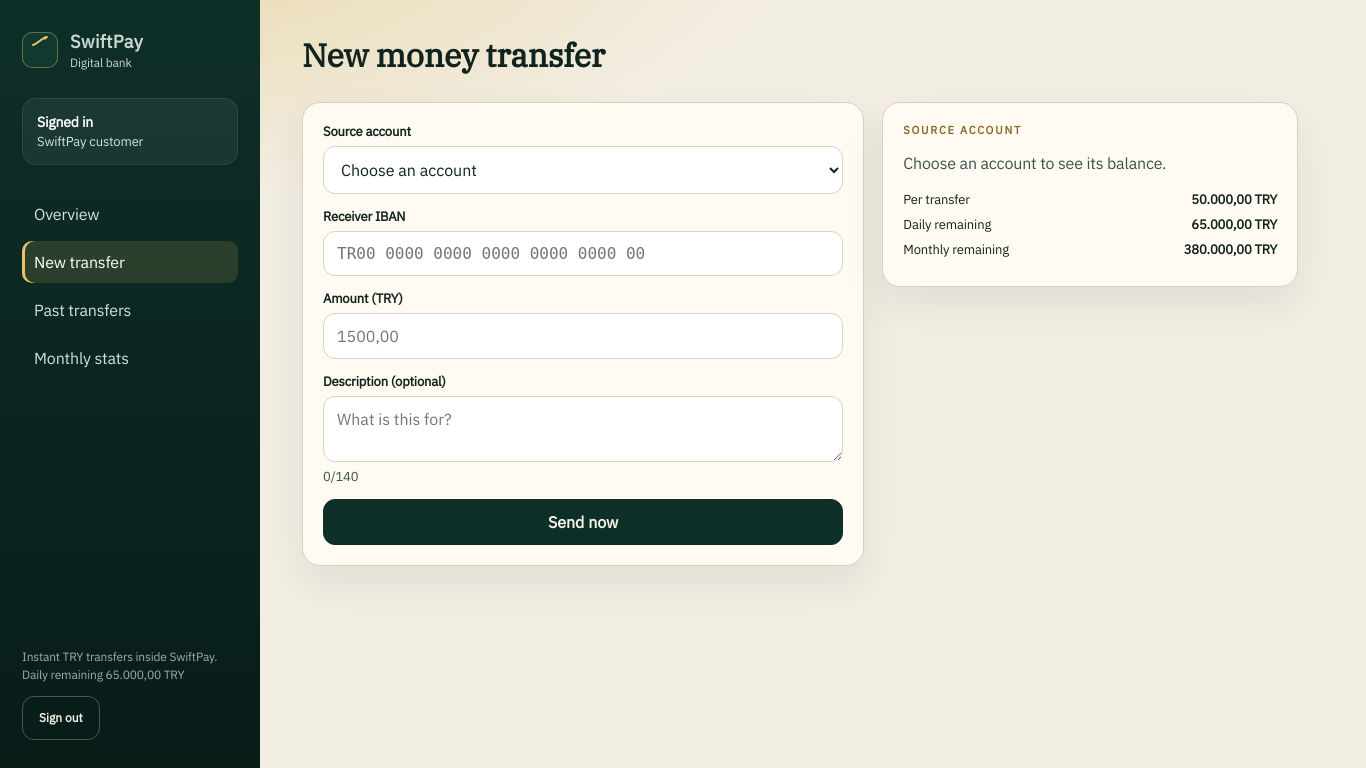
Test case: New transfer form › shows the replay notice when Idempotent-Replayed is true
Select "TR62 **** **** **** **** 1001 — 250.000,00 TRY" in the dropdown labelled "Source account" at (583, 170), box [323, 146, 843, 194]
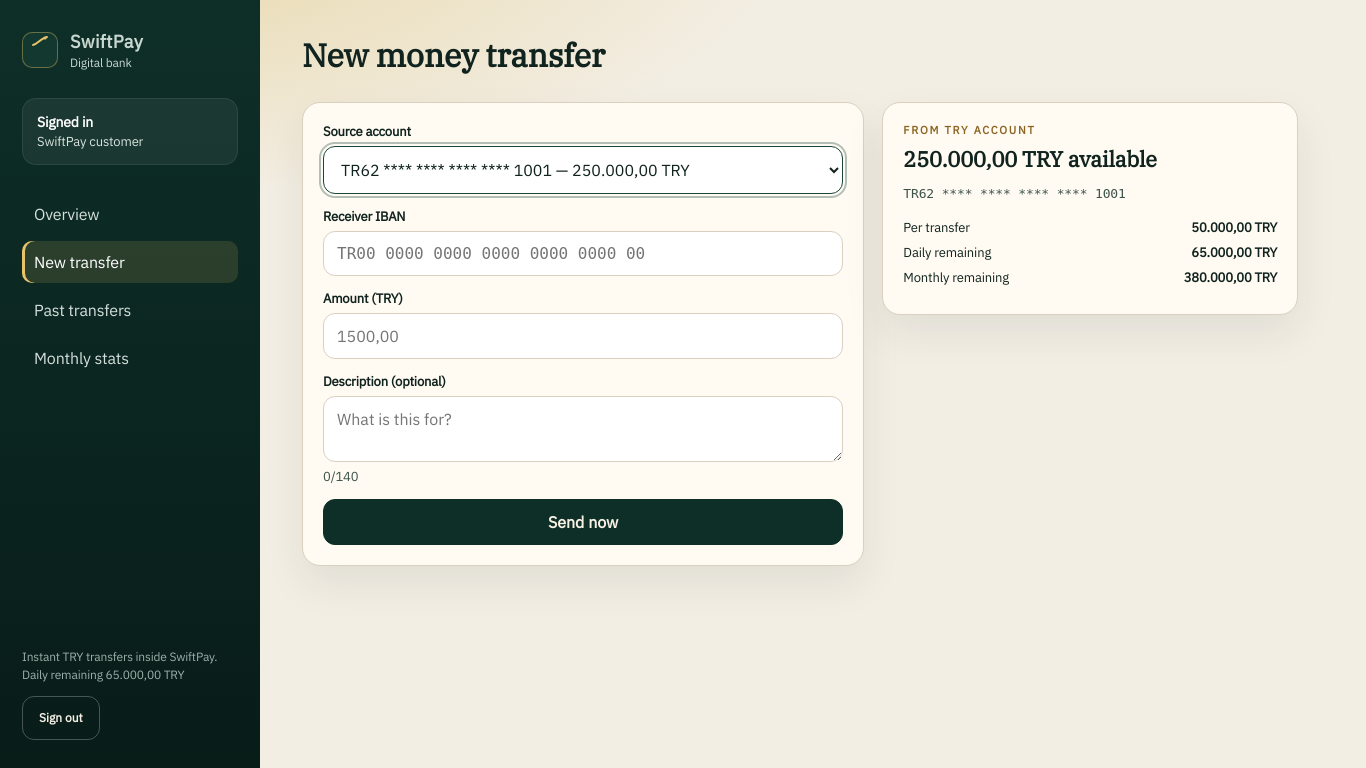
Type "TR690006200000000000002001" into the field labelled "Receiver IBAN" at (583, 254), box [323, 231, 843, 276]
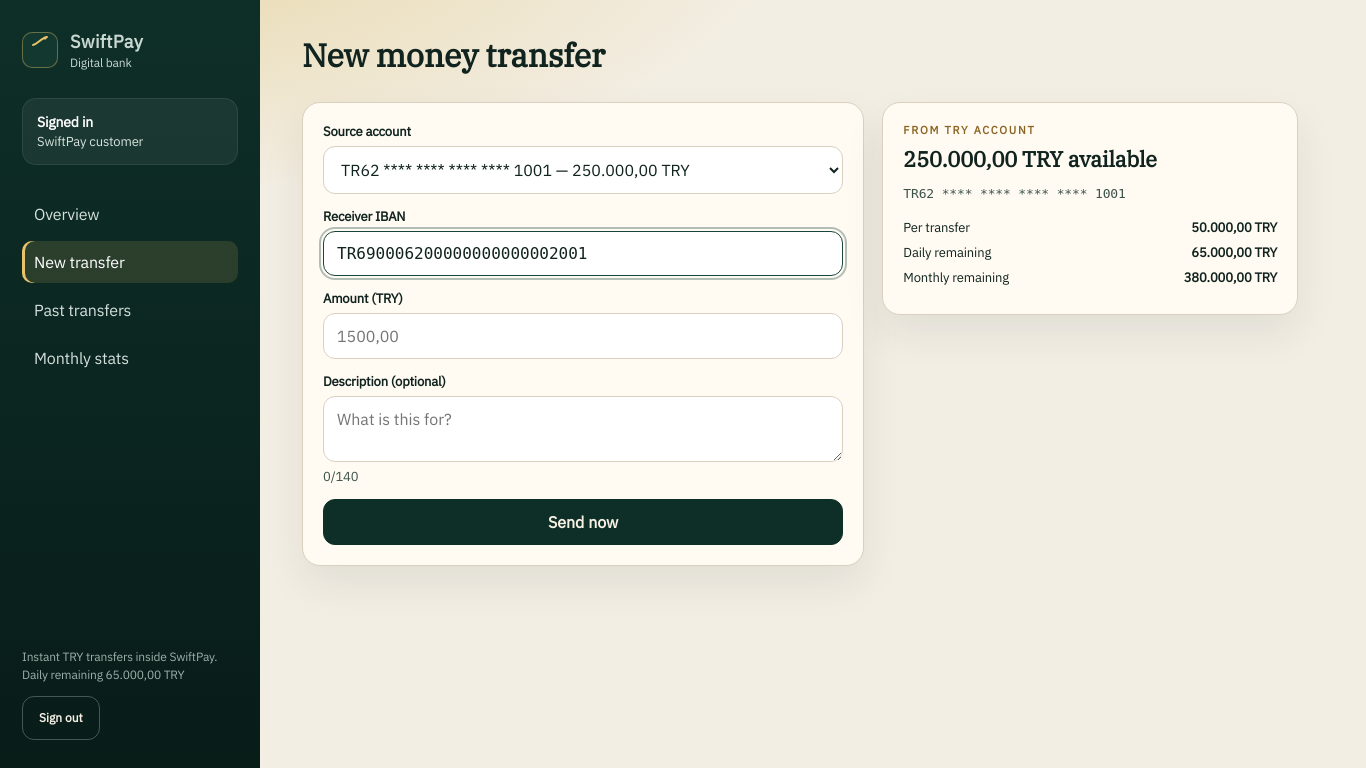
Type "1500" into the field labelled "Amount (TRY)" at (583, 336), box [323, 313, 843, 359]
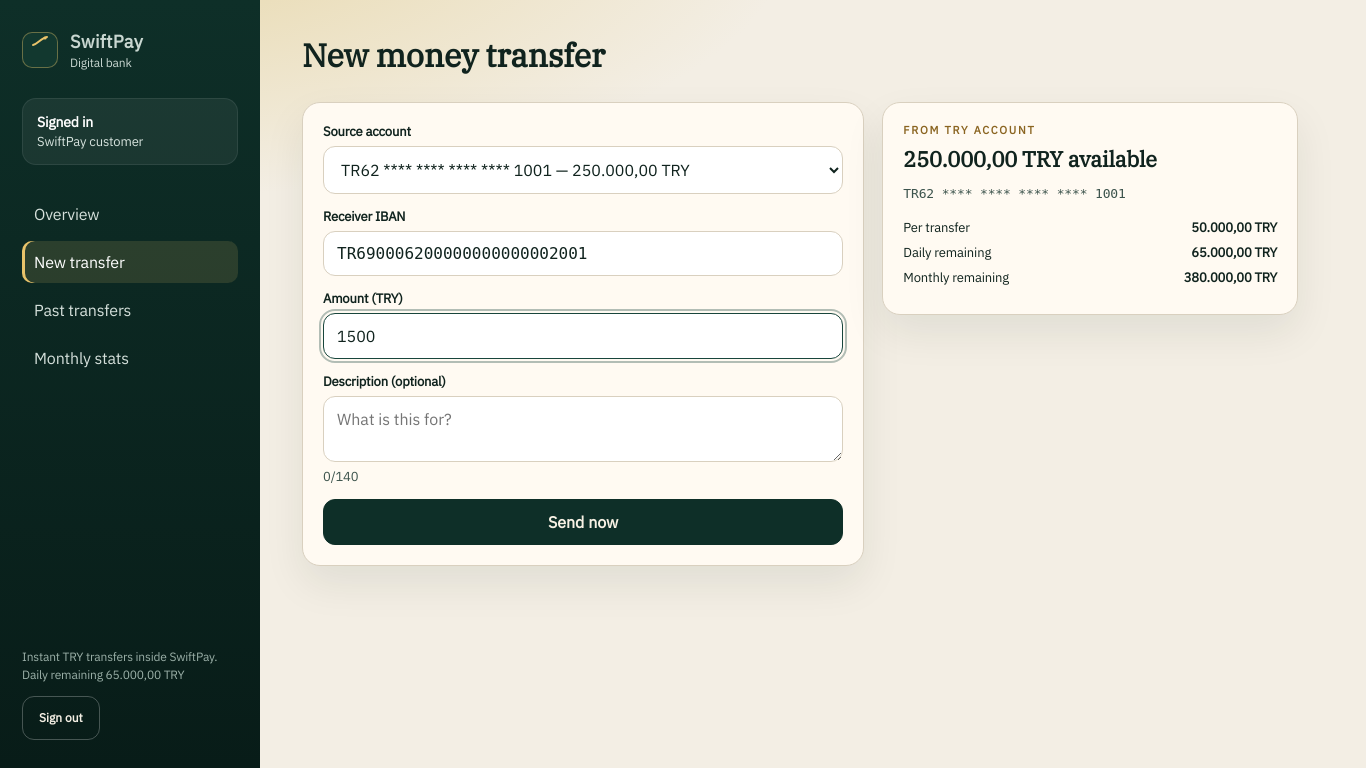
Type "Kira" into the text box labelled "Description (optional)" at (583, 429), box [323, 396, 843, 462]
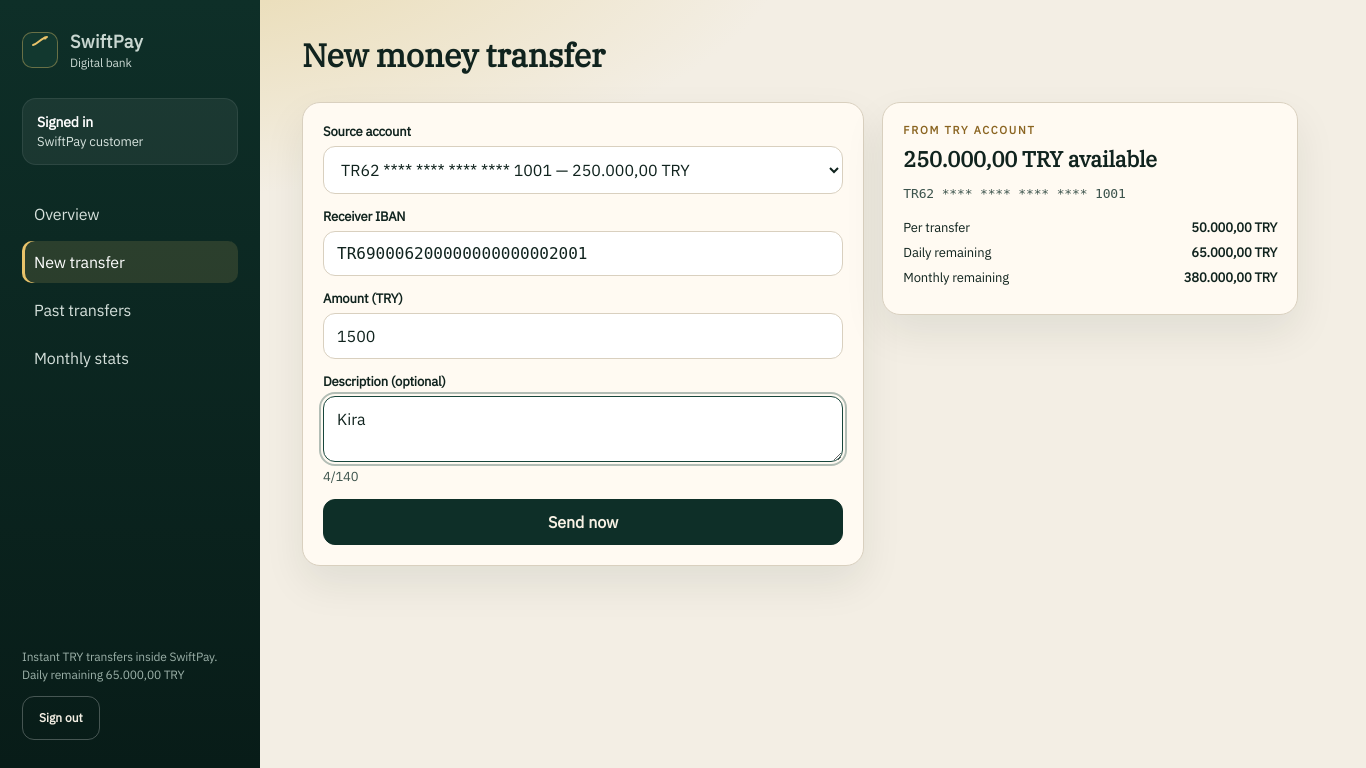
Click the button "Send now" at (583, 522), box [323, 499, 843, 545]
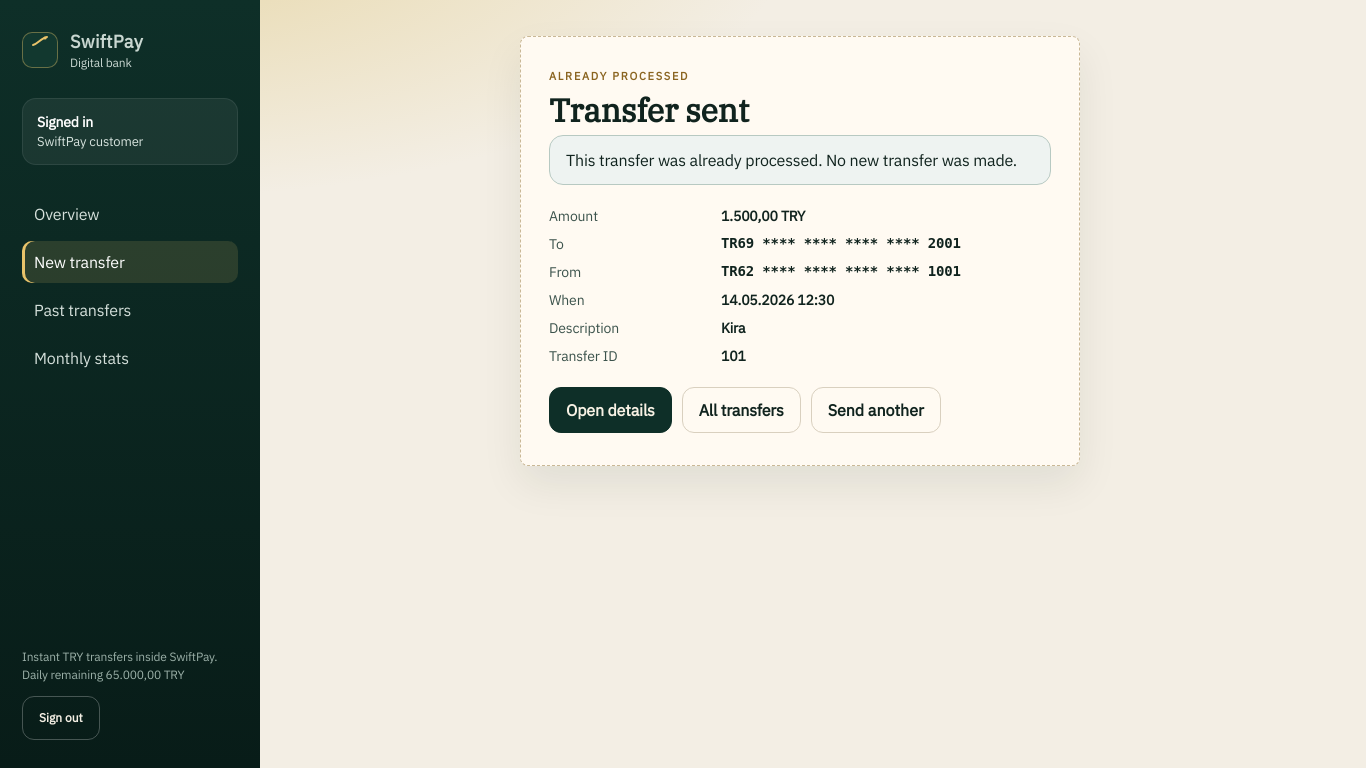
Now the text "This transfer was already processed" is shown, box [566, 150, 1017, 170]
